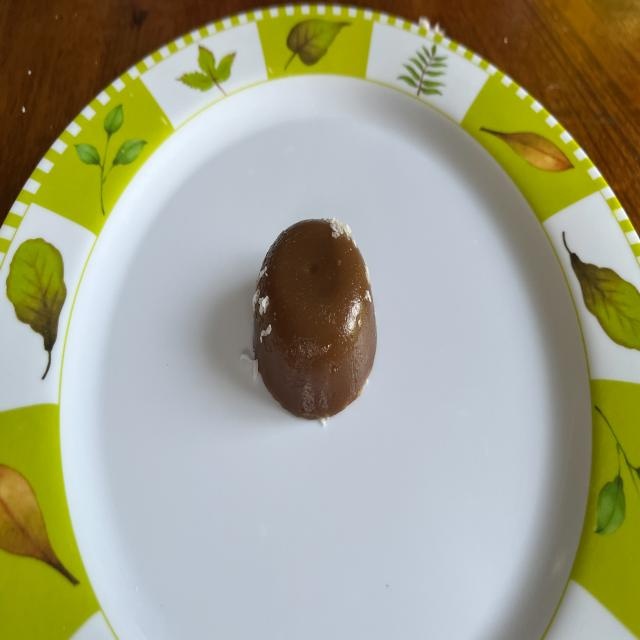Kuih lompang: (252, 218, 376, 418)
